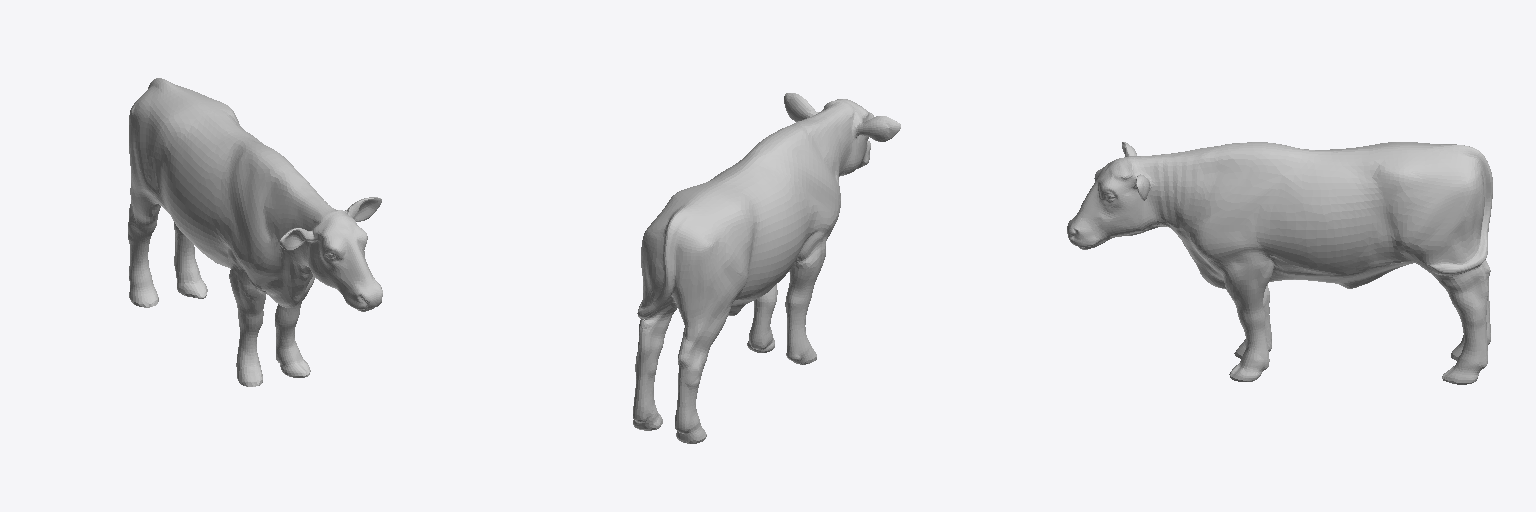
File: cow.obj
3 views of the same model, side by side, from view 1: azimuth 30°, elevation 25°; view 2: azimuth 150°, elevation 25°; view 3: azimuth 270°, elevation 25° (orthographic).
Bounding box in the file's own units: 0.5087 × 0.9872 × 1.72.